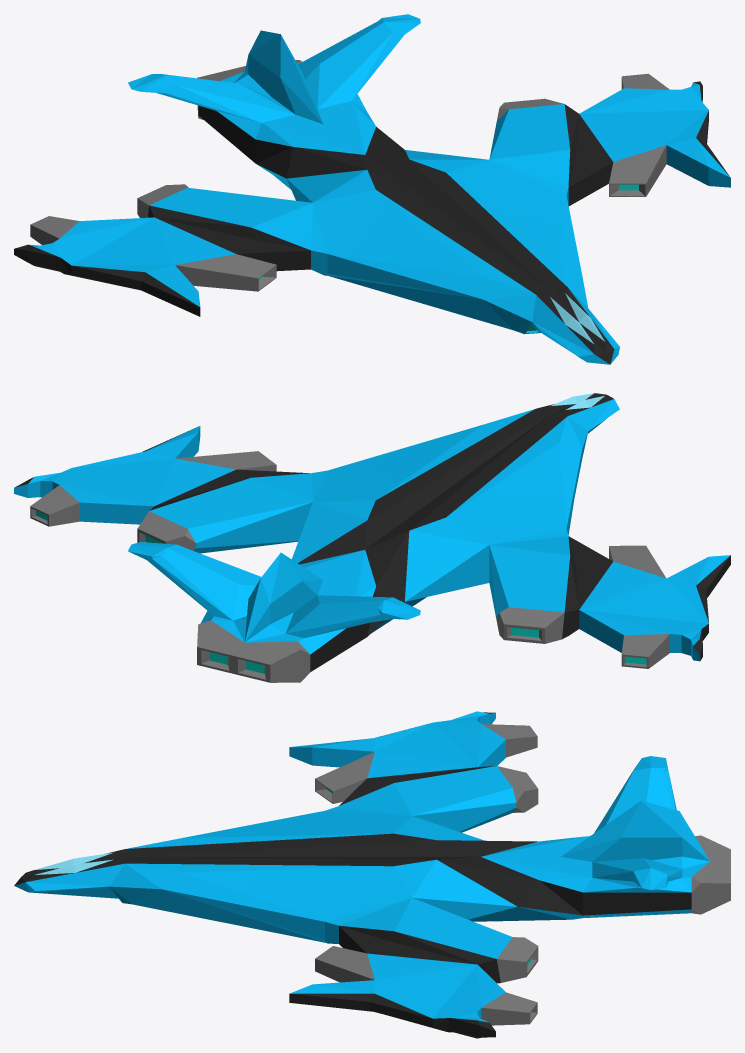
File: Spaceship_4.fbx
3 renders of one model, top to bottom at view 1: azimuth 30°, elevation 25°; view 2: azimuth 150°, elevation 25°; view 3: azimuth 270°, elevation 25°, orthographic. The views are drawn at different scales.
Parts seen in each view (by area): view 1: _12_5; view 2: _12_5; view 3: _12_5.
Boxes of the visible parts, x1,y1,x2,y2 form: _12_5: (14, 14, 730, 364); _12_5: (14, 393, 730, 682); _12_5: (14, 711, 730, 1038).
Bounding box in the file's own units: 1314 × 189 × 1248.
